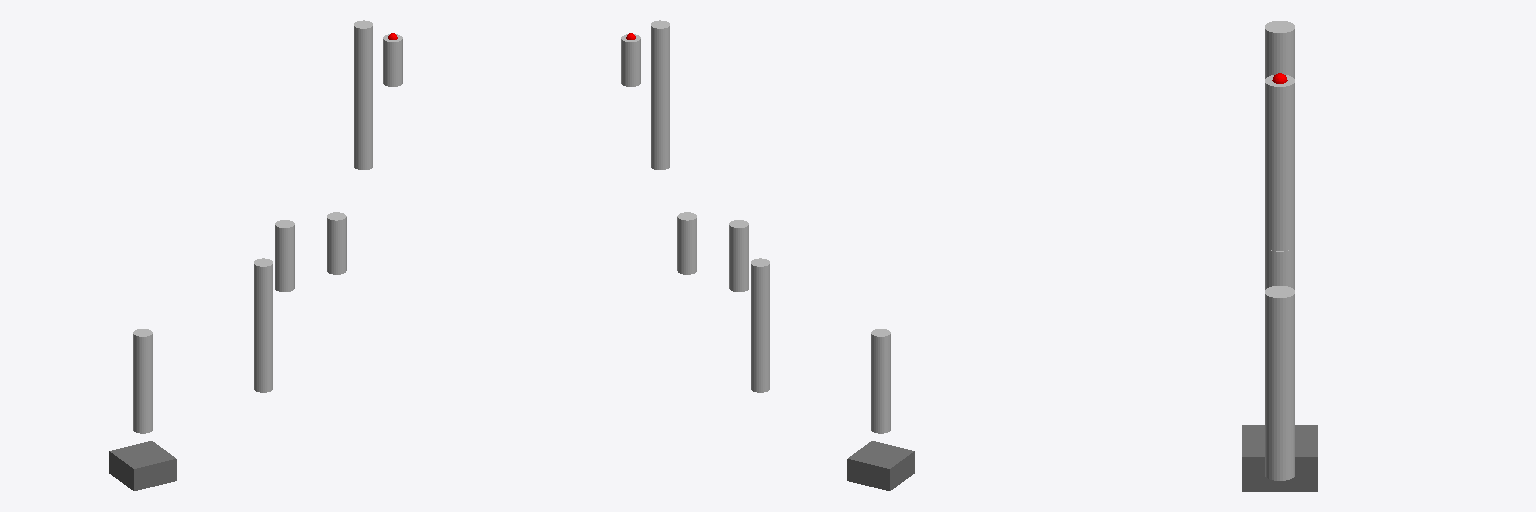
URDF robot description (w10_sim):
<?xml version="1.0" encoding="utf-8"?>
<!-- w10机械臂 - Pinocchio规范版本 -->
<!-- 自动生成自DH参数 - 运动学规范 -->
<robot name="w10_sim">

  <!-- 基座 -->
  <link name="base_link">
    <inertial>
      <origin xyz="0 0 0.081676" rpy="0 0 0" />
      <mass value="19.318" />
      <inertia ixx="0.067819" ixy="0" ixz="0" iyy="0.067813" iyz="0" izz="0.04982" />
    </inertial>
    <visual>
      <origin xyz="0 0 0" rpy="0 0 0" />
      <geometry>
        <box size="0.1 0.1 0.05" />
      </geometry>
      <material name="base">
        <color rgba="0.5 0.5 0.5 1.0" />
      </material>
    </visual>
  </link>

  <!-- joint2 到 Link2 -->
  <joint name="joint2" type="revolute">
    <parent link="base_link" />
    <child link="Link2" />
    <origin xyz="0.000000 0.000000 0.163000" rpy="0.000000 0.000000 0.000000" />
    <axis xyz="0 0 1" />
    <limit lower="-3.14159" upper="3.14159" effort="100" velocity="1.0" />
    <dynamics damping="0.01" friction="0.01" />
  </joint>

  <link name="Link2">
    <inertial>
      <origin xyz="0 0 0.081500" rpy="0 0 0" />
      <mass value="5.0" />
      <inertia ixx="0.01" ixy="0" ixz="0" iyy="0.01" iyz="0" izz="0.005" />
    </inertial>
    <visual>
      <origin xyz="0 0 0" rpy="0 0 0" />
      <geometry>
        <cylinder radius="0.02" length="0.163000" />
      </geometry>
      <material name="link">
        <color rgba="0.8 0.8 0.8 1.0" />
      </material>
    </visual>
  </link>

  <!-- joint3 到 Link3 -->
  <joint name="joint3" type="revolute">
    <parent link="Link2" />
    <child link="Link3" />
    <origin xyz="0.000000 0.000000 0.085000" rpy="0.000000 0.000000 0.000000" />
    <axis xyz="0 0 1" />
    <limit lower="-3.14159" upper="3.14159" effort="100" velocity="1.0" />
    <dynamics damping="0.01" friction="0.01" />
  </joint>

  <link name="Link3">
    <inertial>
      <origin xyz="0 0 0.042500" rpy="0 0 0" />
      <mass value="5.0" />
      <inertia ixx="0.01" ixy="0" ixz="0" iyy="0.01" iyz="0" izz="0.005" />
    </inertial>
    <visual>
      <origin xyz="0 0 0" rpy="0 0 0" />
      <geometry>
        <cylinder radius="0.02" length="0.100000" />
      </geometry>
      <material name="link">
        <color rgba="0.8 0.8 0.8 1.0" />
      </material>
    </visual>
  </link>

  <!-- joint4 到 Link4 -->
  <joint name="joint4" type="revolute">
    <parent link="Link3" />
    <child link="Link4" />
    <origin xyz="0.281500 0.000000 0.000100" rpy="0.000000 0.000000 0.000000" />
    <axis xyz="0 0 1" />
    <limit lower="-3.14159" upper="3.14159" effort="100" velocity="1.0" />
    <dynamics damping="0.01" friction="0.01" />
  </joint>

  <link name="Link4">
    <inertial>
      <origin xyz="0 0 0.000050" rpy="0 0 0" />
      <mass value="5.0" />
      <inertia ixx="0.01" ixy="0" ixz="0" iyy="0.01" iyz="0" izz="0.005" />
    </inertial>
    <visual>
      <origin xyz="0 0 0" rpy="0 0 0" />
      <geometry>
        <cylinder radius="0.02" length="0.281500" />
      </geometry>
      <material name="link">
        <color rgba="0.8 0.8 0.8 1.0" />
      </material>
    </visual>
  </link>

  <!-- joint5 到 Link5 -->
  <joint name="joint5" type="revolute">
    <parent link="Link4" />
    <child link="Link5" />
    <origin xyz="0.050000 0.000000 0.143500" rpy="0.000000 0.000000 0.000000" />
    <axis xyz="0 0 1" />
    <limit lower="-3.14159" upper="3.14159" effort="100" velocity="1.0" />
    <dynamics damping="0.01" friction="0.01" />
  </joint>

  <link name="Link5">
    <inertial>
      <origin xyz="0 0 0.071750" rpy="0 0 0" />
      <mass value="5.0" />
      <inertia ixx="0.01" ixy="0" ixz="0" iyy="0.01" iyz="0" izz="0.005" />
    </inertial>
    <visual>
      <origin xyz="0 0 0" rpy="0 0 0" />
      <geometry>
        <cylinder radius="0.02" length="0.143500" />
      </geometry>
      <material name="link">
        <color rgba="0.8 0.8 0.8 1.0" />
      </material>
    </visual>
  </link>

  <!-- joint6 到 Link6 -->
  <joint name="joint6" type="revolute">
    <parent link="Link5" />
    <child link="Link6" />
    <origin xyz="0.121300 0.000000 0.000000" rpy="0.000000 0.000000 0.000000" />
    <axis xyz="0 0 1" />
    <limit lower="-3.14159" upper="3.14159" effort="100" velocity="1.0" />
    <dynamics damping="0.01" friction="0.01" />
  </joint>

  <link name="Link6">
    <inertial>
      <origin xyz="0 0 0.000000" rpy="0 0 0" />
      <mass value="5.0" />
      <inertia ixx="0.01" ixy="0" ixz="0" iyy="0.01" iyz="0" izz="0.005" />
    </inertial>
    <visual>
      <origin xyz="0 0 0" rpy="0 0 0" />
      <geometry>
        <cylinder radius="0.02" length="0.121300" />
      </geometry>
      <material name="link">
        <color rgba="0.8 0.8 0.8 1.0" />
      </material>
    </visual>
  </link>

  <!-- joint7 到 Link7 -->
  <joint name="joint7" type="revolute">
    <parent link="Link6" />
    <child link="Link7" />
    <origin xyz="0.062900 0.000000 0.316200" rpy="0.000000 0.000000 0.000000" />
    <axis xyz="0 0 1" />
    <limit lower="-3.14159" upper="3.14159" effort="100" velocity="1.0" />
    <dynamics damping="0.01" friction="0.01" />
  </joint>

  <link name="Link7">
    <inertial>
      <origin xyz="0 0 0.158100" rpy="0 0 0" />
      <mass value="5.0" />
      <inertia ixx="0.01" ixy="0" ixz="0" iyy="0.01" iyz="0" izz="0.005" />
    </inertial>
    <visual>
      <origin xyz="0 0 0" rpy="0 0 0" />
      <geometry>
        <cylinder radius="0.02" length="0.316200" />
      </geometry>
      <material name="link">
        <color rgba="0.8 0.8 0.8 1.0" />
      </material>
    </visual>
  </link>

  <!-- joint8 到 Link8 -->
  <joint name="joint8" type="revolute">
    <parent link="Link7" />
    <child link="Link8" />
    <origin xyz="0.068400 0.000000 0.062000" rpy="0.000000 0.000000 0.000000" />
    <axis xyz="0 0 1" />
    <limit lower="-3.14159" upper="3.14159" effort="100" velocity="1.0" />
    <dynamics damping="0.01" friction="0.01" />
  </joint>

  <link name="Link8">
    <inertial>
      <origin xyz="0 0 0.031000" rpy="0 0 0" />
      <mass value="5.0" />
      <inertia ixx="0.01" ixy="0" ixz="0" iyy="0.01" iyz="0" izz="0.005" />
    </inertial>
    <visual>
      <origin xyz="0 0 0" rpy="0 0 0" />
      <geometry>
        <cylinder radius="0.02" length="0.100000" />
      </geometry>
      <material name="link">
        <color rgba="0.8 0.8 0.8 1.0" />
      </material>
    </visual>
  </link>

  <!-- 末端执行器 -->
  <joint name="joint_tcp" type="fixed">
    <parent link="Link8" />
    <child link="tcp" />
    <origin xyz="0 0 0.05" rpy="0 0 0" />
  </joint>

  <link name="tcp">
    <inertial>
      <origin xyz="0 0 0" rpy="0 0 0" />
      <mass value="0.1" />
      <inertia ixx="0.0001" ixy="0" ixz="0" iyy="0.0001" iyz="0" izz="0.0001" />
    </inertial>
    <visual>
      <origin xyz="0 0 0" rpy="0 0 0" />
      <geometry>
        <sphere radius="0.01" />
      </geometry>
      <material name="tcp">
        <color rgba="1.0 0.0 0.0 1.0" />
      </material>
    </visual>
  </link>

</robot>

--- Facts derived from the render (not from the file) ---
Views: 3 orthographic renders of the robot side by side, from view 1: azimuth 30°, elevation 25°; view 2: azimuth 150°, elevation 25°; view 3: azimuth 270°, elevation 25°.
Robot: w10_sim — 9 links, 8 joints (7 revolute, 1 fixed); root link base_link; default pose: all joints at 0.
Links seen in each view (by area): view 1: Link7, base_link, Link4, Link5, Link2, Link6, Link8, Link3; view 2: Link7, base_link, Link4, Link5, Link2, Link6, Link8, Link3; view 3: Link7, base_link, Link4, Link6, Link8, Link5.
Boxes of the visible links, x1,y1,x2,y2 form: Link7: (354, 20, 372, 169); base_link: (109, 441, 176, 490); Link4: (254, 258, 272, 392); Link5: (275, 220, 294, 291); Link2: (133, 359, 152, 433); Link6: (327, 212, 346, 274); Link8: (383, 34, 402, 86); Link3: (133, 329, 152, 380); Link7: (651, 20, 669, 169); base_link: (847, 441, 914, 490); Link4: (751, 258, 769, 392); Link5: (729, 220, 748, 291); Link2: (871, 358, 890, 433); Link6: (677, 212, 696, 274); Link8: (621, 34, 640, 86); Link3: (871, 329, 890, 380); Link7: (1265, 21, 1294, 250); base_link: (1242, 425, 1317, 491); Link4: (1265, 377, 1294, 480); Link6: (1265, 286, 1294, 381); Link8: (1265, 75, 1294, 155); Link5: (1265, 247, 1294, 289).
Size in the robot's own frame: 0.6541 by 0.1 by 0.8909 metres.
Geometry: primitives only (box / cylinder / sphere), no mesh files.
